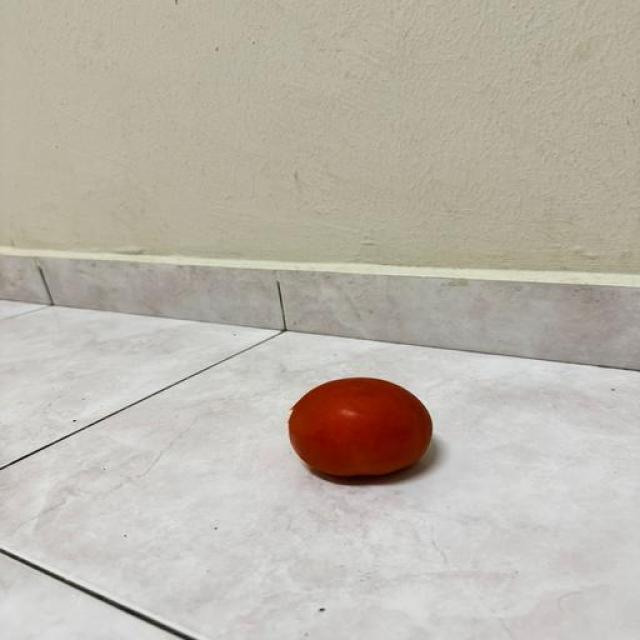organic: (289, 378, 432, 476)
